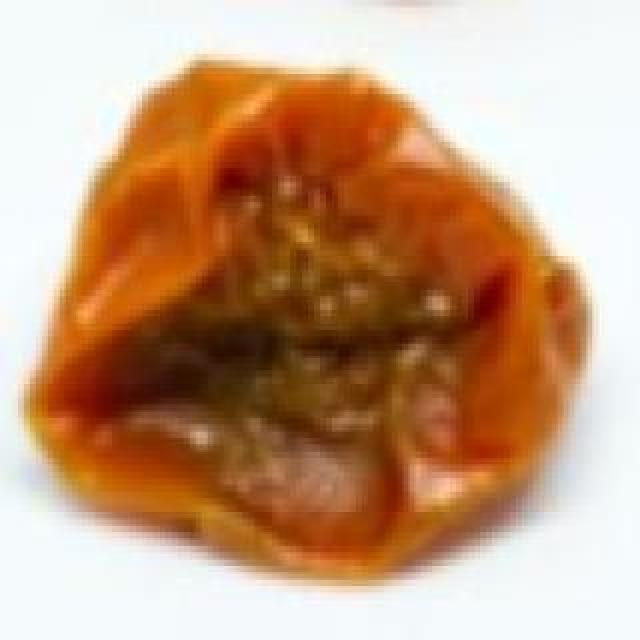Rotten_Tomato: (18, 46, 598, 586)
